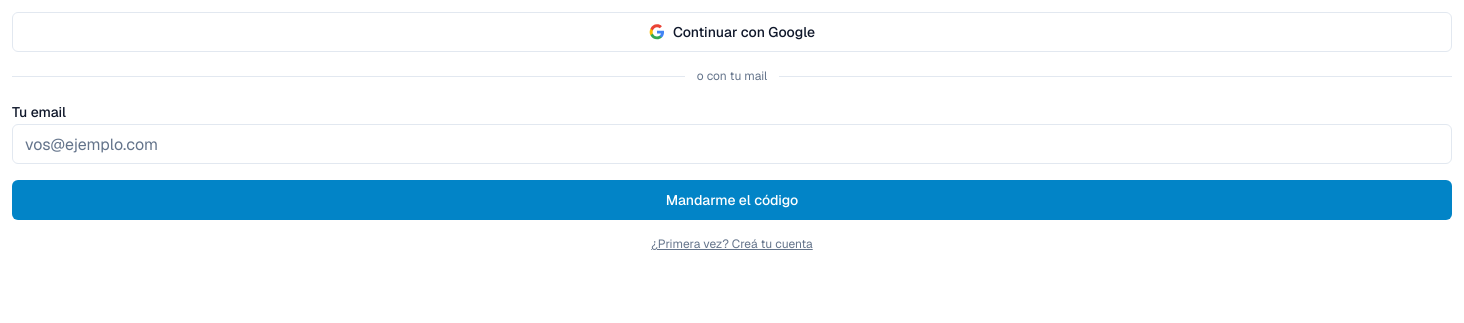
Test case: LoginForm › ← Usar otro mail → vuelve al paso de email
Type "test@example.com" into the field labelled "Tu email" at (732, 144), box x1=12 y1=124 x2=1452 y2=164
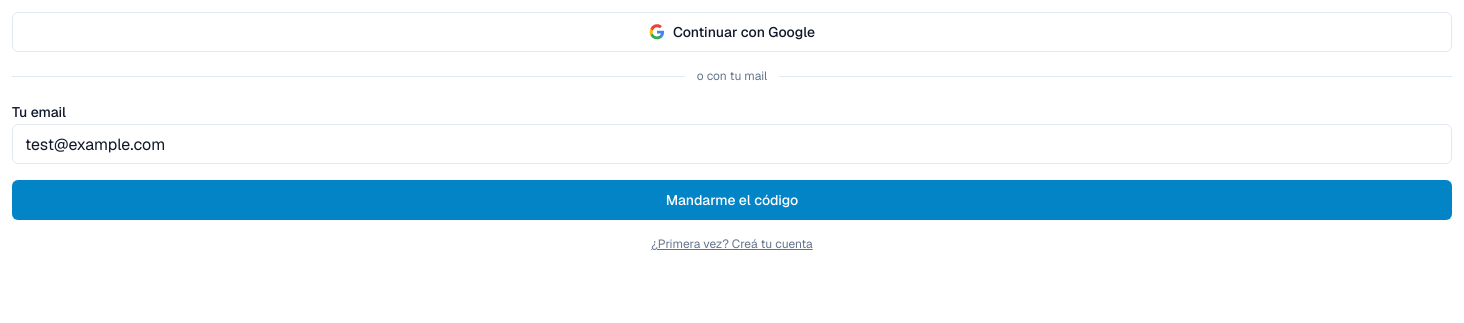
Submit the form "Mandarme el código", box x1=12 y1=100 x2=1452 y2=220
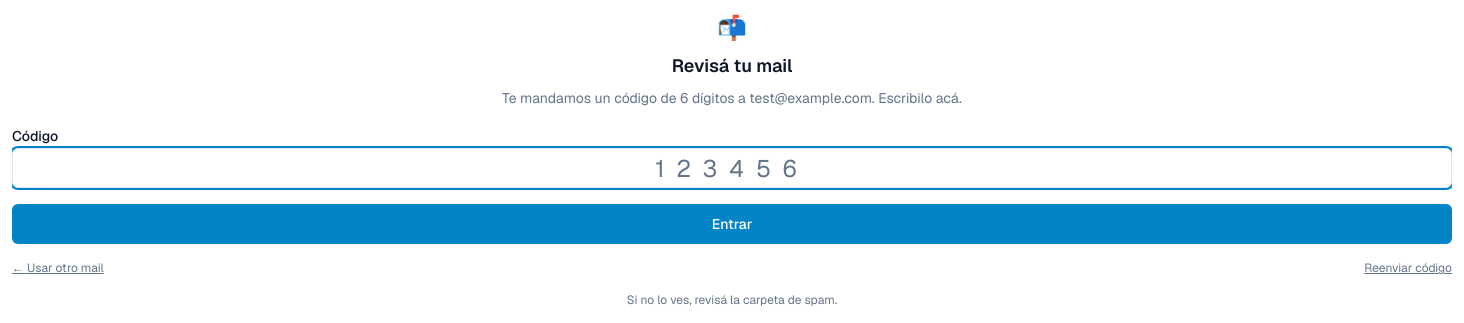
Check: the field labelled "Código" is shown, box x1=12 y1=148 x2=1452 y2=188
Click the button "← Usar otro mail" at (58, 268), box x1=12 y1=260 x2=104 y2=276
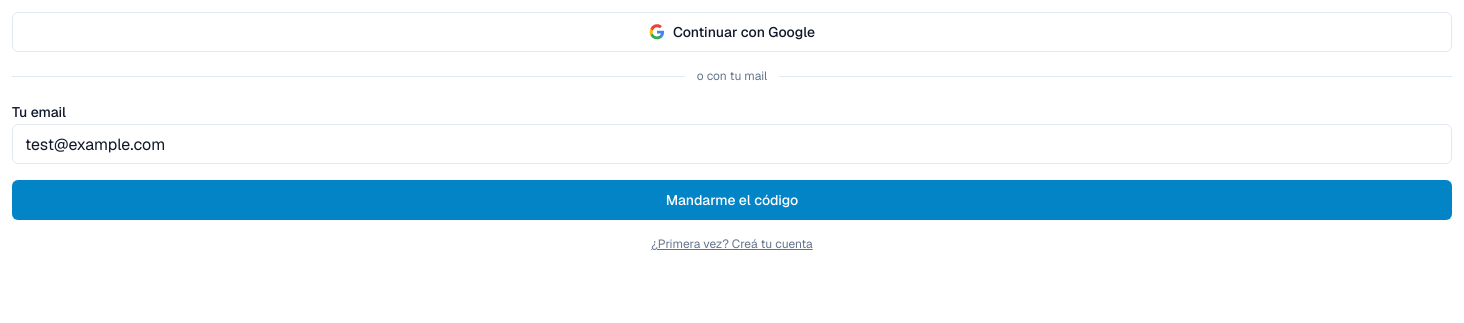
Check: the field labelled "Tu email" is shown, box x1=12 y1=124 x2=1452 y2=164
